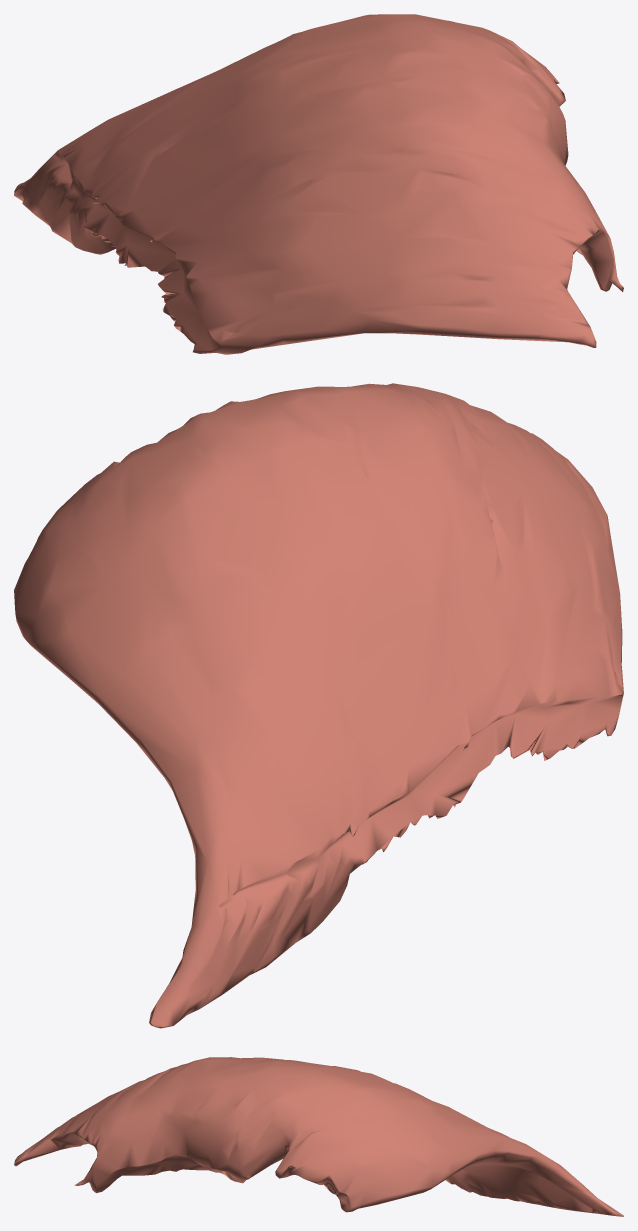
3 renders of one model, top to bottom at view 1: azimuth 30°, elevation 25°; view 2: azimuth 150°, elevation 25°; view 3: azimuth 270°, elevation 25°, orthographic. The views are drawn at different scales.
Parts seen in each view (by area): view 1: 右侧臀大肌; view 2: 右侧臀大肌; view 3: 右侧臀大肌.
Part boxes in pixels (x1,y1,x2,y2): 右侧臀大肌: (14,14,623,354); 右侧臀大肌: (14,383,623,1028); 右侧臀大肌: (14,1057,623,1216).
Size of the model in its own units: 0.2143 by 0.143 by 0.3971.
